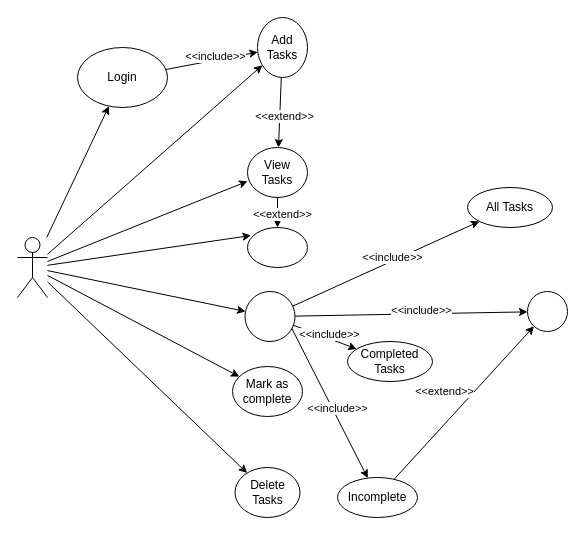
The diagram is 585 pixels wide and 535 high, and some of its shapes have lost their labels. Each missing label, with the centre of its shape:
"Due date" belongs at (x=547, y=311).
"Edit Tasks" belongs at (x=277, y=247).
"Sort Tasks" belongs at (x=269, y=316).
"User" belongs at (x=32, y=267).
